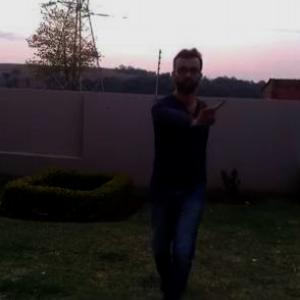takeoff-hand: (189, 93, 228, 128)
